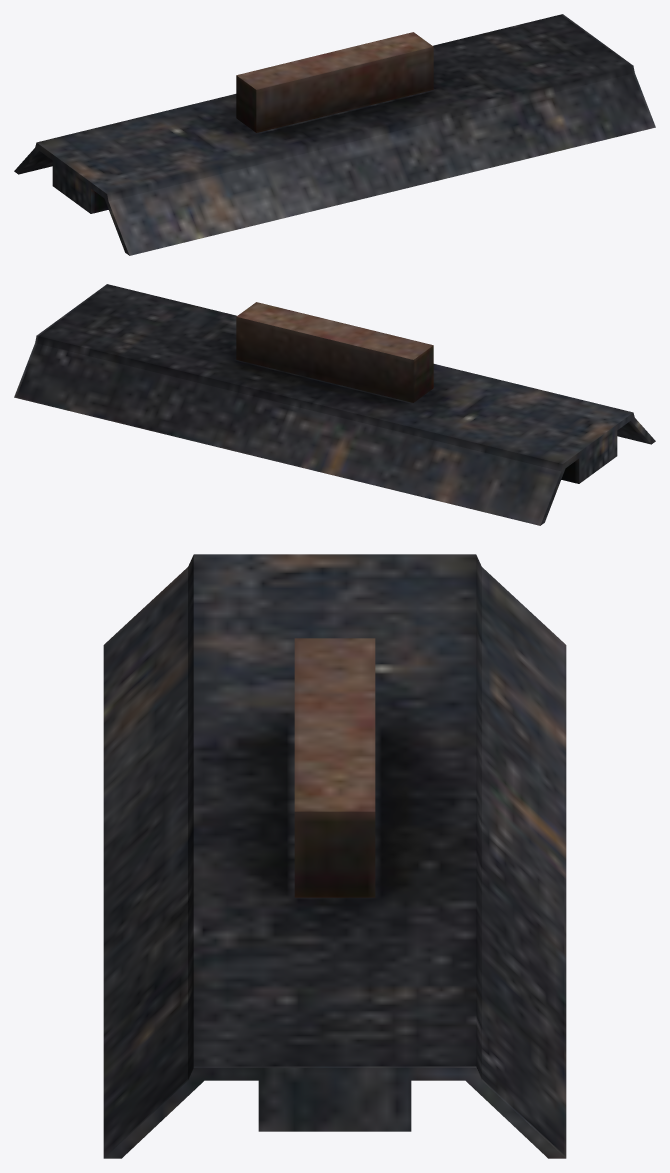
Rendered from StorageLight_On.FBX.
3 renders of one model, top to bottom at view 1: azimuth 30°, elevation 25°; view 2: azimuth 150°, elevation 25°; view 3: azimuth 270°, elevation 25°, orthographic. The views are drawn at different scales.
Visible parts, largest first — view 1: StorageLight_On; view 2: StorageLight_On; view 3: StorageLight_On.
Part boxes in pixels (left/top/right/bottom): StorageLight_On: left=14, top=14, right=655, bottom=255; StorageLight_On: left=14, top=284, right=655, bottom=525; StorageLight_On: left=103, top=554, right=566, bottom=1158.
Size of the model in its own units: 123 by 19.75 by 46.83.
2 materials, 2 textured.
